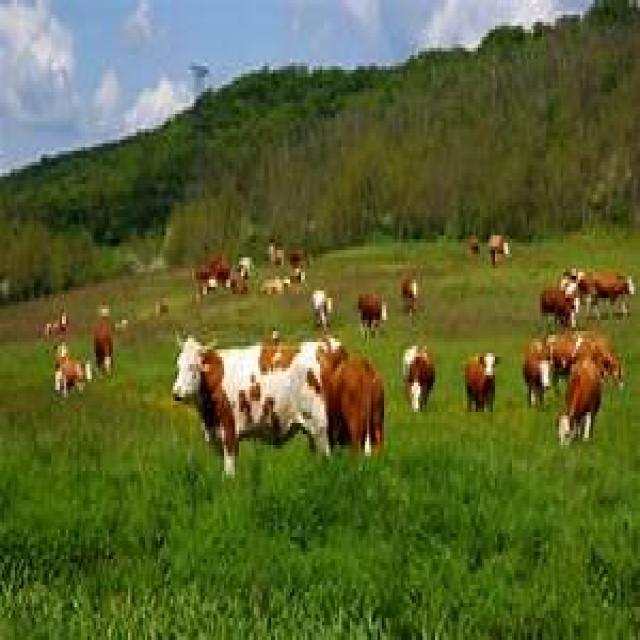cow: (173, 342, 346, 478), (559, 342, 606, 445), (463, 353, 499, 416), (356, 291, 390, 335), (397, 269, 422, 316)
